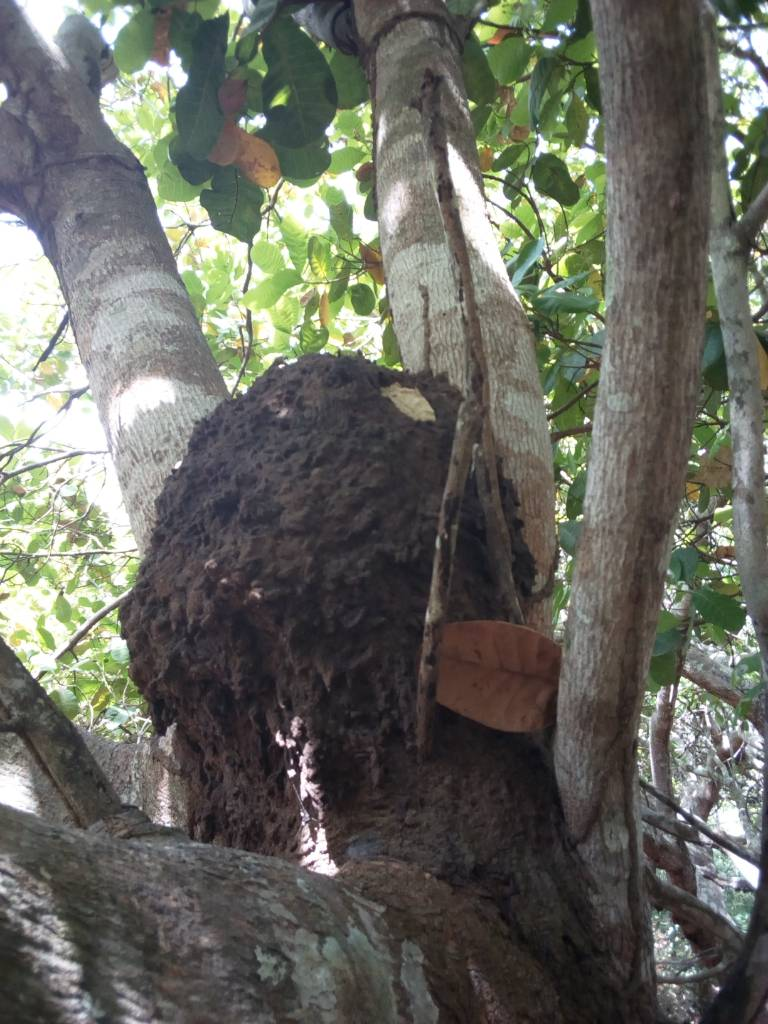Termites: (127, 361, 463, 847), (404, 885, 654, 1022)
